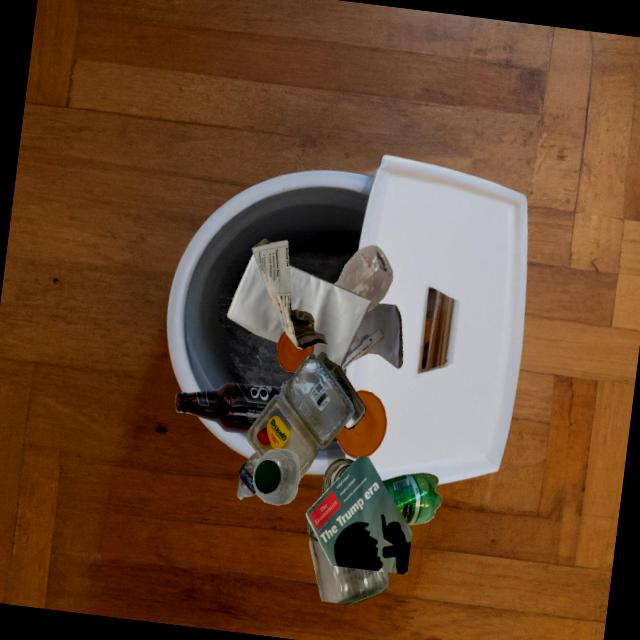glass: (307, 520, 388, 605), (175, 382, 281, 433), (322, 458, 354, 494)
metal: (316, 352, 365, 429)
paper: (305, 456, 412, 574), (289, 265, 371, 368), (252, 238, 327, 349), (226, 253, 284, 343), (341, 303, 402, 370)
plastic: (246, 353, 354, 481), (333, 244, 392, 311), (336, 390, 386, 458), (381, 472, 441, 525), (252, 448, 299, 505), (276, 330, 313, 372), (236, 452, 260, 500), (238, 459, 248, 476), (280, 380, 288, 387)
